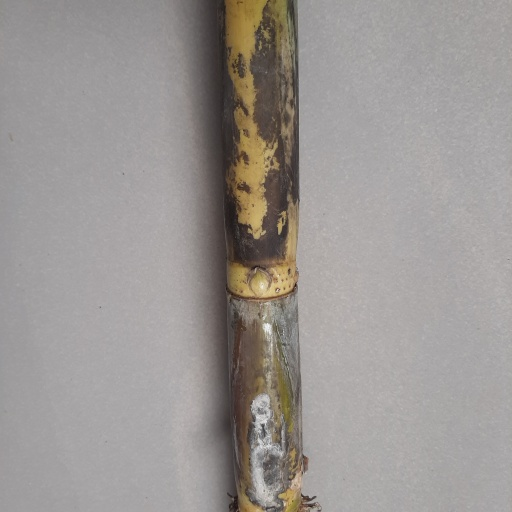Bud: (246, 268, 273, 297)
